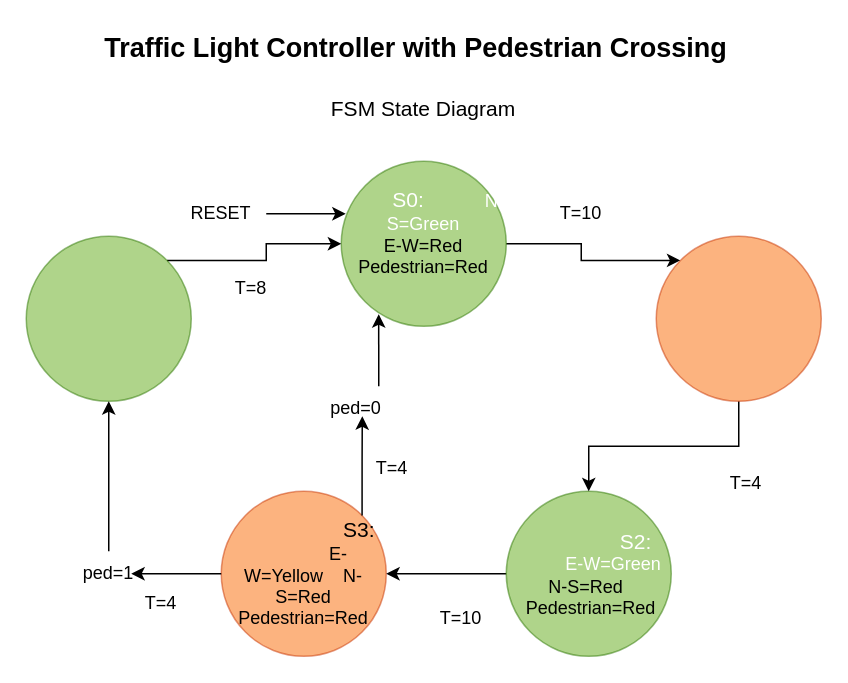
Some shapes in this 848 by 683 pixel diagram are drawn without their labels. The centre of each missing label's shape, as x and y in pixels:
"S1: N-S=Yellow E-W=Red Pedestrian=Red" belongs at point 738,318.
"S4: N-S=Red E-W=Red Pedestrian=Green" belongs at point 108,318.
